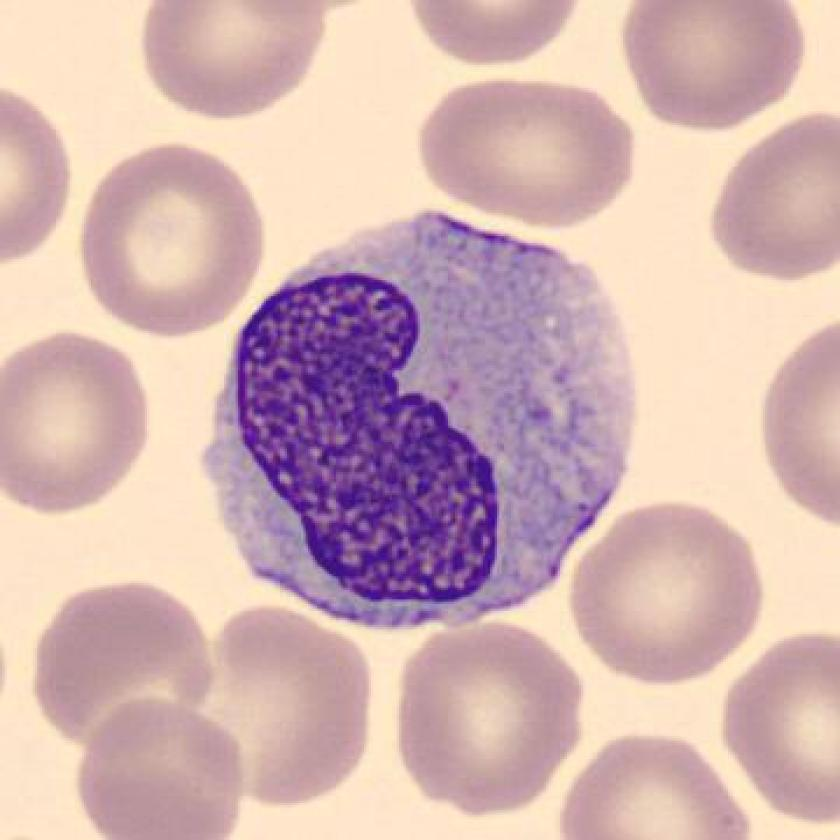monocyte: (185, 184, 657, 644)
